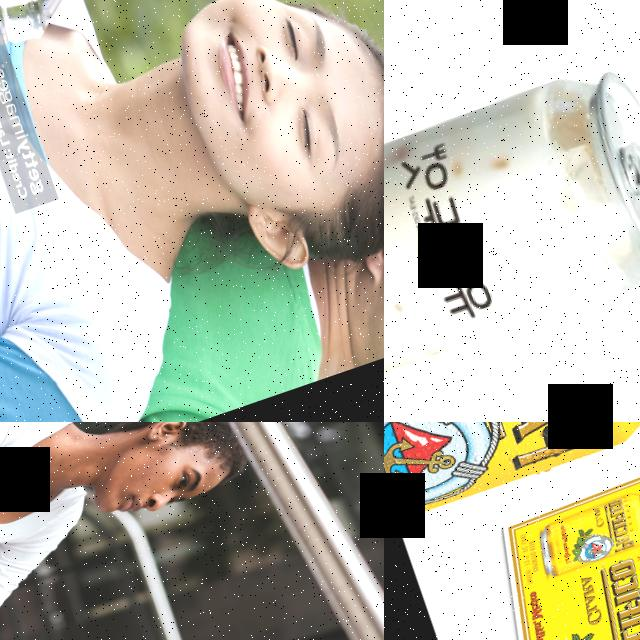can: (384, 55, 640, 422), (384, 422, 640, 588)
